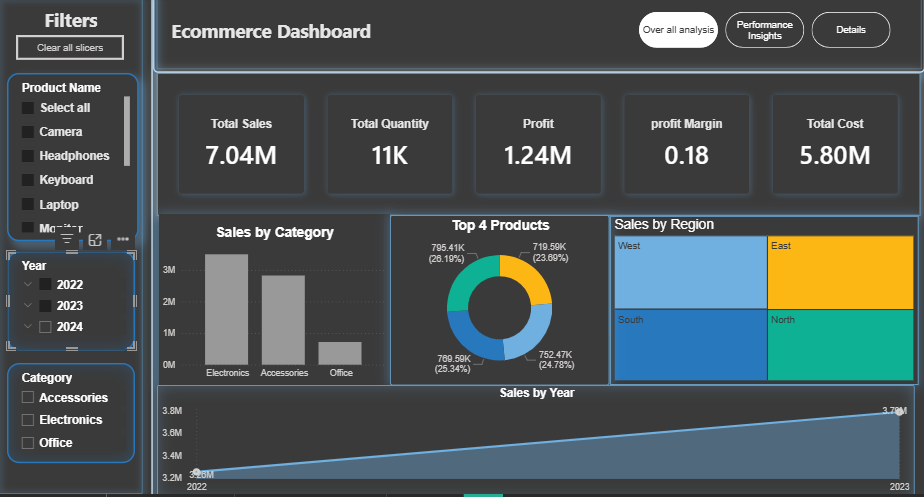

Layout of this report page (visuals, bound fields, positions):
{"tool":"powerbi","page":{"name":"Over all analysis","canvas":[1280,720],"ordinal":0},"visuals":[{"type":"shape","box":[224,0,1056,116.2],"z":0},{"type":"shape","title":"Filters","box":[0,0,224,705.9],"z":1000},{"type":"cardVisual","fields":{"Data":["Sum(ecommerce_sales_data.Sales)","Sum(ecommerce_sales_data.Quantity)","Sum(ecommerce_sales_data.Profit)","ecommerce_sales_data.profit Margin","Sum(ecommerce_sales_data.cost)"]},"box":[229.9,115.7,1043.9,195.2],"z":2000},{"type":"clusteredColumnChart","title":"Sales by Category","fields":{"Category":["ecommerce_sales_data.Category"],"Y":["Sum(ecommerce_sales_data.Sales)"]},"box":[232.7,309.4,316.2,234.1],"z":3000},{"type":"treemap","title":"Sales by Region","fields":{"Values":["Sum(ecommerce_sales_data.Sales)"],"Group":["ecommerce_sales_data.Region"]},"box":[848.8,312.1,421.6,231.4],"z":4000},{"type":"donutChart","title":"Top 4 Products","fields":{"Category":["ecommerce_sales_data.Product Name"],"Y":["Sum(ecommerce_sales_data.Sales)"]},"box":[549,310.8,299.8,232.7],"z":5000},{"type":"lineChart","title":" Sales by Year","fields":{"Category":["ecommerce_sales_data.Order Date.Variation.Date Hierarchy.Year","ecommerce_sales_data.Order Date.Variation.Date Hierarchy.Quarter","ecommerce_sales_data.Order Date.Variation.Date Hierarchy.Month","ecommerce_sales_data.Order Date.Variation.Date Hierarchy.Day"],"Y":["Sum(ecommerce_sales_data.Sales)"]},"box":[230,543.5,1036.3,157.4],"z":6000},{"type":"slicer","fields":{"Values":["ecommerce_sales_data.Product Name"]},"box":[25.1,116.5,179.9,230],"z":7000},{"type":"slicer","fields":{"Values":["ecommerce_sales_data.Order Date.Variation.Date Hierarchy.Year","ecommerce_sales_data.Order Date.Variation.Date Hierarchy.Quarter","ecommerce_sales_data.Order Date.Variation.Date Hierarchy.Month","ecommerce_sales_data.Order Date.Variation.Date Hierarchy.Day"]},"box":[25.1,359.8,175.5,135.7],"z":8000},{"type":"slicer","fields":{"Values":["ecommerce_sales_data.Category"]},"box":[25.1,513.2,175.5,137.1],"z":9000},{"type":"pageNavigator","box":[888.8,32.6,344.5,49.6],"z":10000},{"type":"actionButton","box":[36.6,64.4,147.7,34.1],"z":11000}]}

Visuals, with their boxes on the page's 1280x720 design canvas (x1, y1, x2, y2). These are canvas units, not pixel positions in the 924x497 screenshot, which may show the page scaled, cropped or inside an application window:
shape: box=[224, 0, 1280, 116]
"Filters" shape: box=[0, 0, 224, 706]
cardVisual - Sum(ecommerce_sales_data.Sales) x Sum(ecommerce_sales_data.Quantity): box=[230, 116, 1274, 311]
"Sales by Category" clusteredColumnChart: box=[233, 309, 549, 544]
"Sales by Region" treemap: box=[849, 312, 1270, 544]
"Top 4 Products" donutChart: box=[549, 311, 849, 544]
" Sales by Year" lineChart: box=[230, 544, 1266, 701]
slicer - ecommerce_sales_data.Product Name: box=[25, 116, 205, 346]
slicer - ecommerce_sales_data.Order Date.Variation.Date Hierarchy.Year x ecommerce_sales_data.Order Date.Variation.Date Hierarchy.Quarter: box=[25, 360, 201, 496]
slicer - ecommerce_sales_data.Category: box=[25, 513, 201, 650]
pageNavigator: box=[889, 33, 1233, 82]
actionButton: box=[37, 64, 184, 98]
